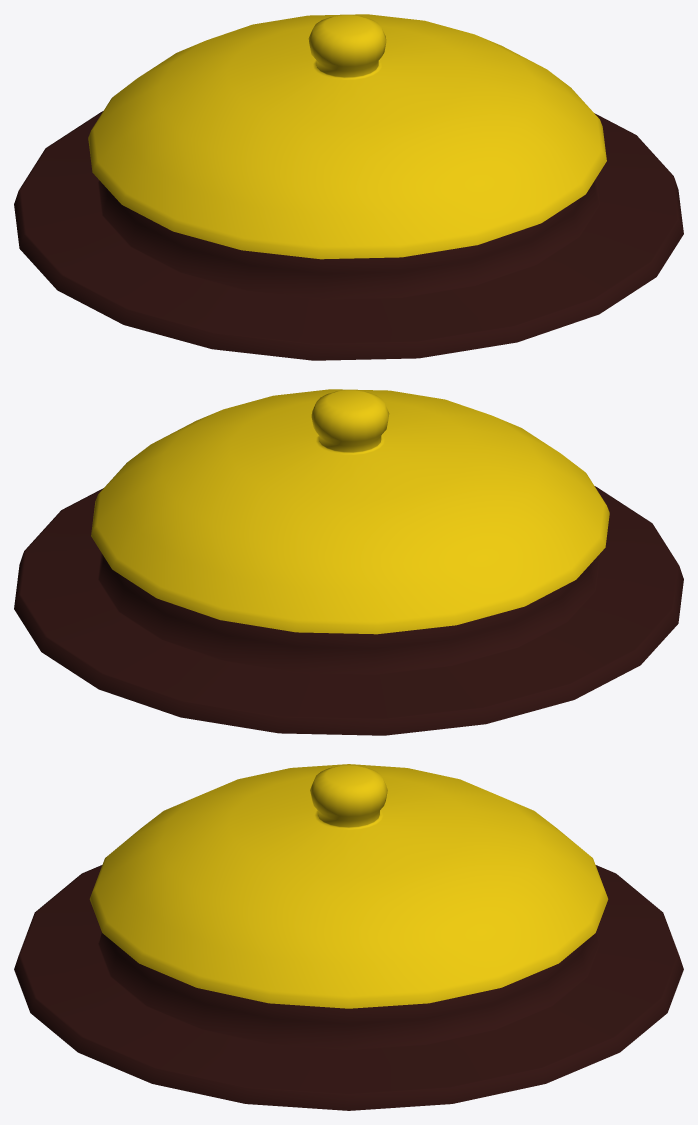
Rendered from bell.fbx.
3 views of the same model, one above another, from view 1: azimuth 30°, elevation 25°; view 2: azimuth 150°, elevation 25°; view 3: azimuth 270°, elevation 25° (orthographic).
Parts seen in each view (by area): view 1: Circle.001, Circle; view 2: Circle.001, Circle; view 3: Circle.001, Circle.
Boxes of the visible parts, x1,y1,x2,y2 form: Circle.001: [88, 14, 606, 259]; Circle: [14, 111, 683, 360]; Circle.001: [91, 389, 609, 634]; Circle: [14, 486, 683, 735]; Circle.001: [89, 764, 608, 1008]; Circle: [14, 865, 683, 1110].
Size of the model in its own units: 200 by 63.67 by 200.
